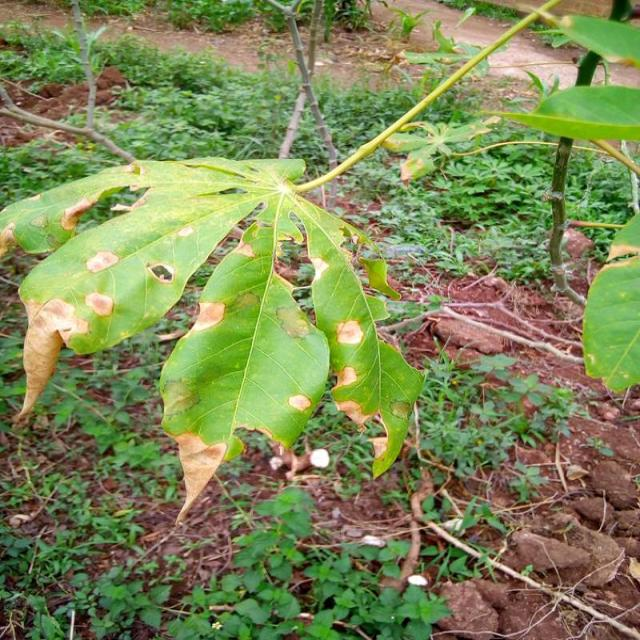cassava leaf: (6, 153, 423, 524)
